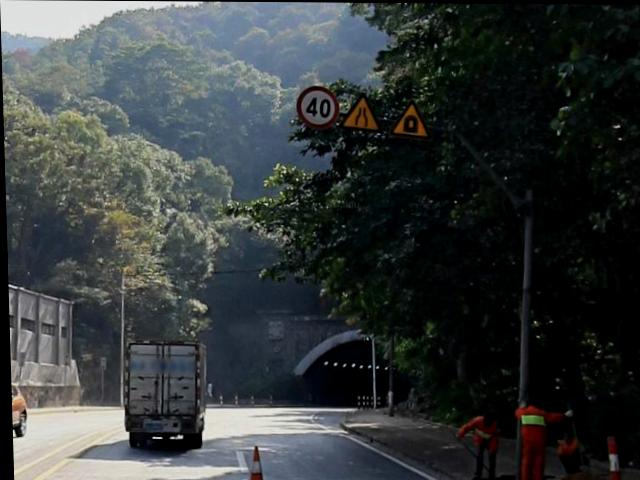limit40: (296, 85, 338, 127)
